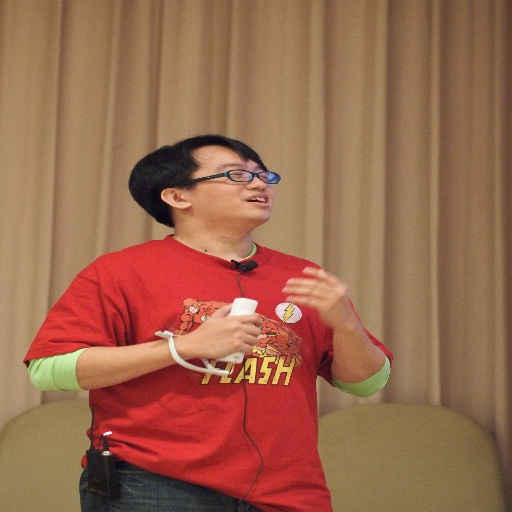hand: (189, 300, 264, 358), (285, 269, 349, 317)
